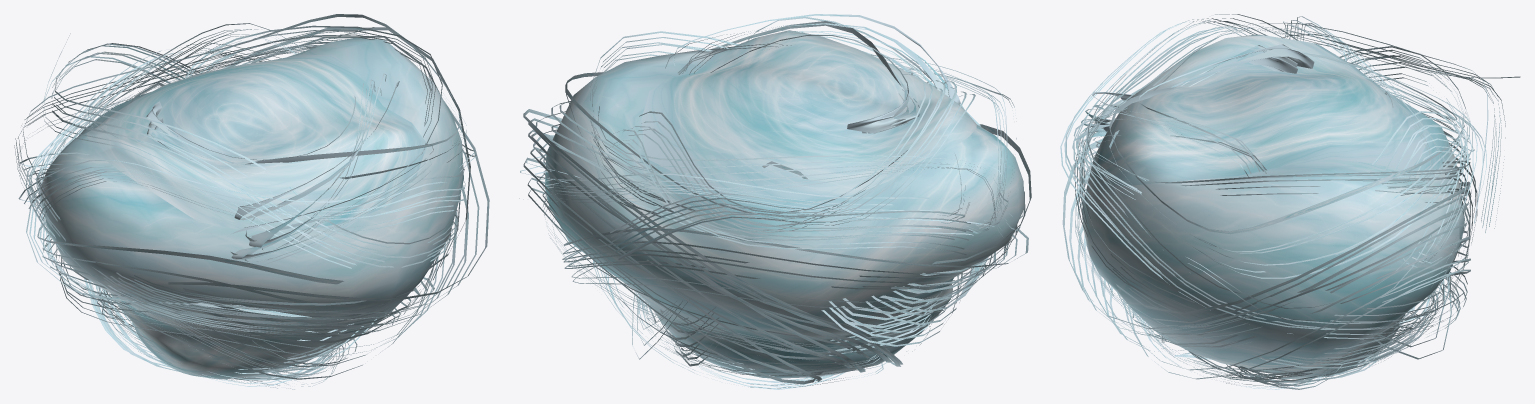
File: blue.fbx
3 views of the same model, side by side, from view 1: azimuth 30°, elevation 25°; view 2: azimuth 150°, elevation 25°; view 3: azimuth 270°, elevation 25° (orthographic). The views are drawn at different scales.
Visible parts, largest first — view 1: pPlane10; view 2: pPlane10; view 3: pPlane10.
Part boxes in pixels (x1,y1,x2,y2): pPlane10: (14, 14, 489, 389); pPlane10: (519, 14, 1031, 389); pPlane10: (1060, 14, 1520, 389).
Size of the model in its own units: 25.74 by 15.75 by 23.18.
